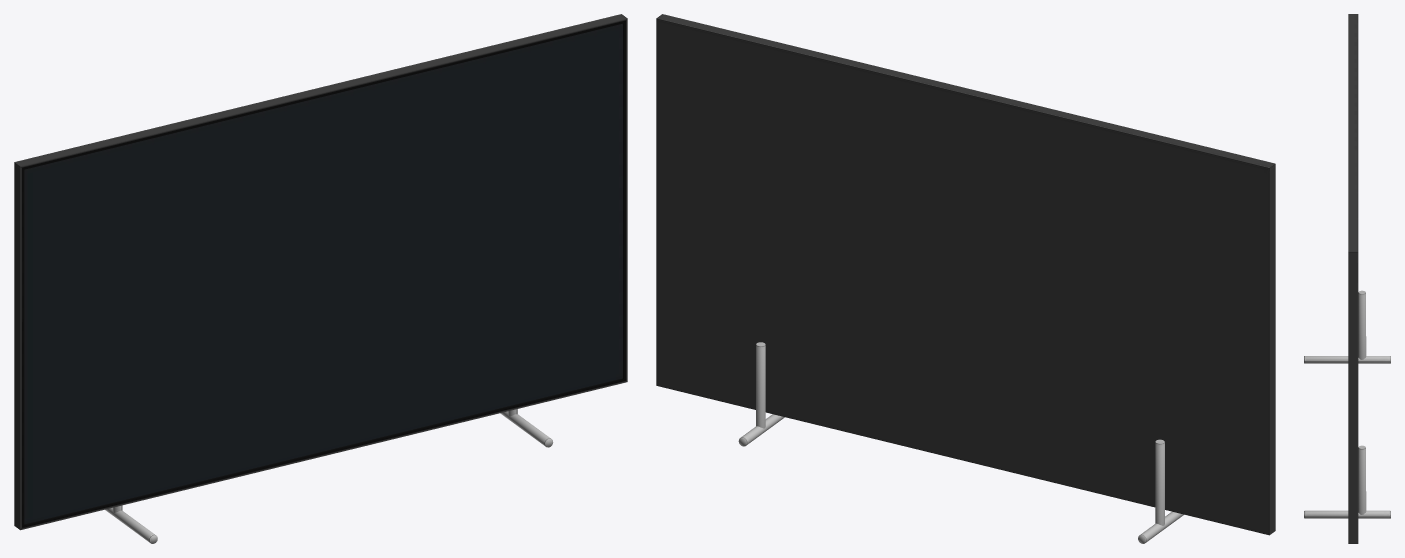
File: flat-screen.glb
The picture shows the model from 3 angles, left to right: view 1: azimuth 30°, elevation 25°; view 2: azimuth 150°, elevation 25°; view 3: azimuth 270°, elevation 25°; orthographic projection. The views are drawn at different scales.
Parts seen in each view (by area): view 1: defaultMaterial; view 2: defaultMaterial; view 3: defaultMaterial.
Part boxes in pixels (x1,y1,x2,y2): defaultMaterial: [14, 14, 627, 543]; defaultMaterial: [656, 14, 1275, 543]; defaultMaterial: [1304, 14, 1390, 543].
Size of the model in its own units: 1.99 by 1.2 by 0.3071.
Materials: 1 (1 with a texture image).
